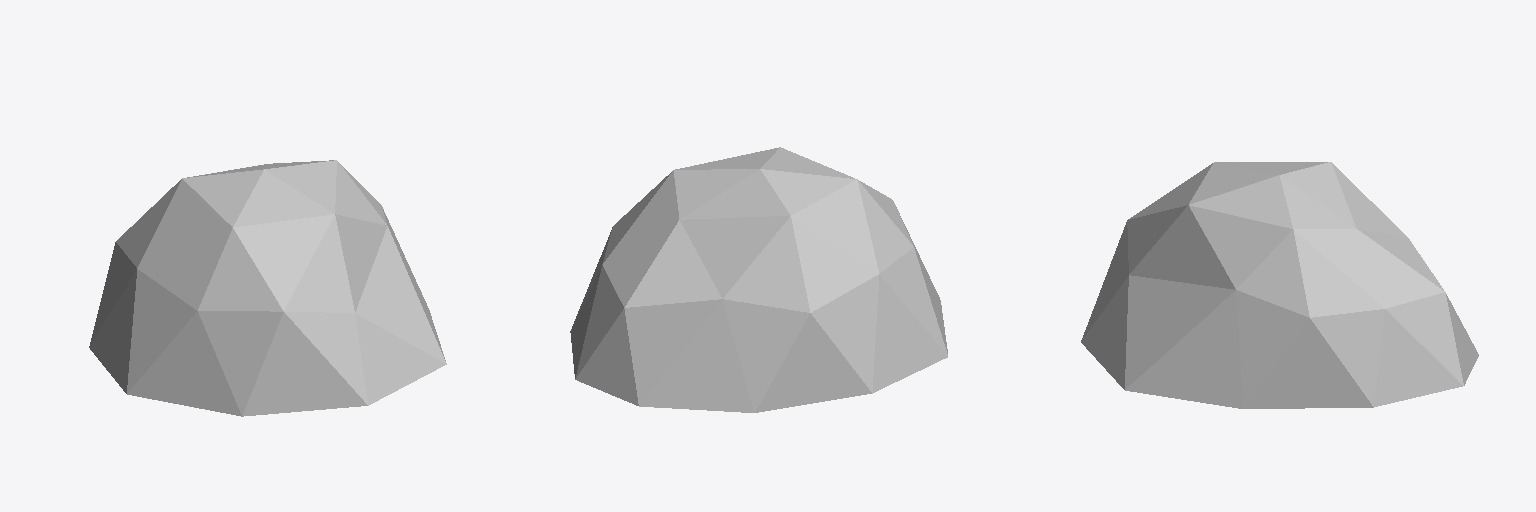
File: rock.obj
The picture shows the model from 3 angles: view 1: azimuth 30°, elevation 25°; view 2: azimuth 150°, elevation 25°; view 3: azimuth 270°, elevation 25°; orthographic projection.
Parts seen in each view (by area): view 1: rock; view 2: rock; view 3: rock.
Boxes of the visible parts, box(x1,y1,x2,y2) form: rock: box(89, 160, 446, 416); rock: box(570, 147, 947, 412); rock: box(1081, 162, 1478, 408).
Bounding box in the file's own units: 1.71 × 0.8925 × 1.9.